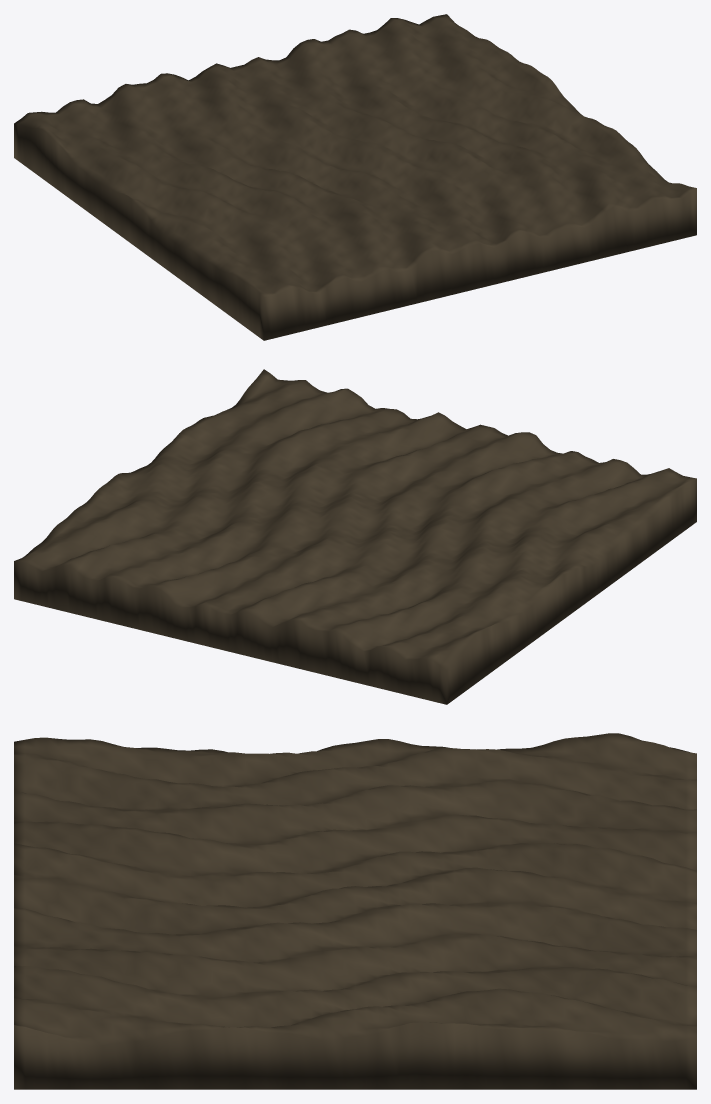
The model's file is fine-sediment-bed.glb.
3 views of the same model, one above another, from view 1: azimuth 30°, elevation 25°; view 2: azimuth 150°, elevation 25°; view 3: azimuth 270°, elevation 25° (orthographic). The views are drawn at different scales.
Parts seen in each view (by area): view 1: fine-sediment-bed; view 2: fine-sediment-bed; view 3: fine-sediment-bed.
Boxes of the visible parts, x1,y1,x2,y2 form: fine-sediment-bed: (14,14,696,340); fine-sediment-bed: (14,369,696,704); fine-sediment-bed: (14,733,696,1089).
Bounding box in the file's own units: 2 × 0.2257 × 2.
